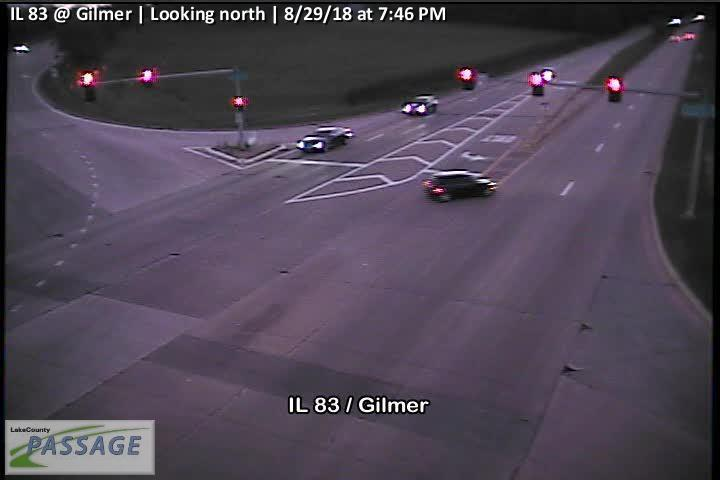SUV: (421, 169, 499, 202)
Sedan: (296, 126, 354, 152), (401, 95, 439, 116)
